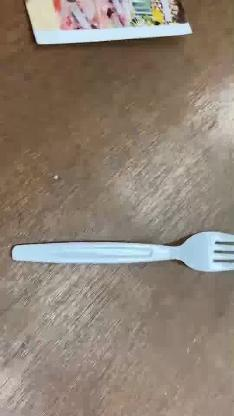Others: (11, 230, 234, 274)
